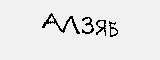А: (41, 12, 63, 33)
Б: (107, 20, 120, 39)
З: (80, 16, 95, 36)
Л: (63, 12, 80, 38)
Я: (95, 17, 108, 39)
